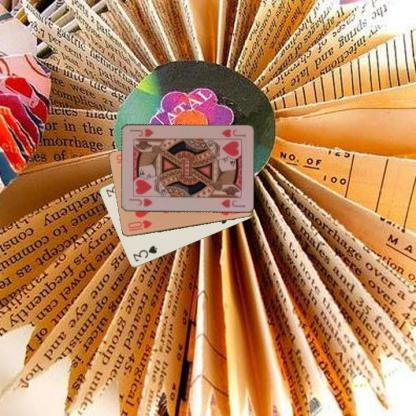10h: (125, 218, 153, 233)
3s: (131, 243, 158, 263)
Jh: (126, 196, 154, 208), (219, 126, 247, 138)
